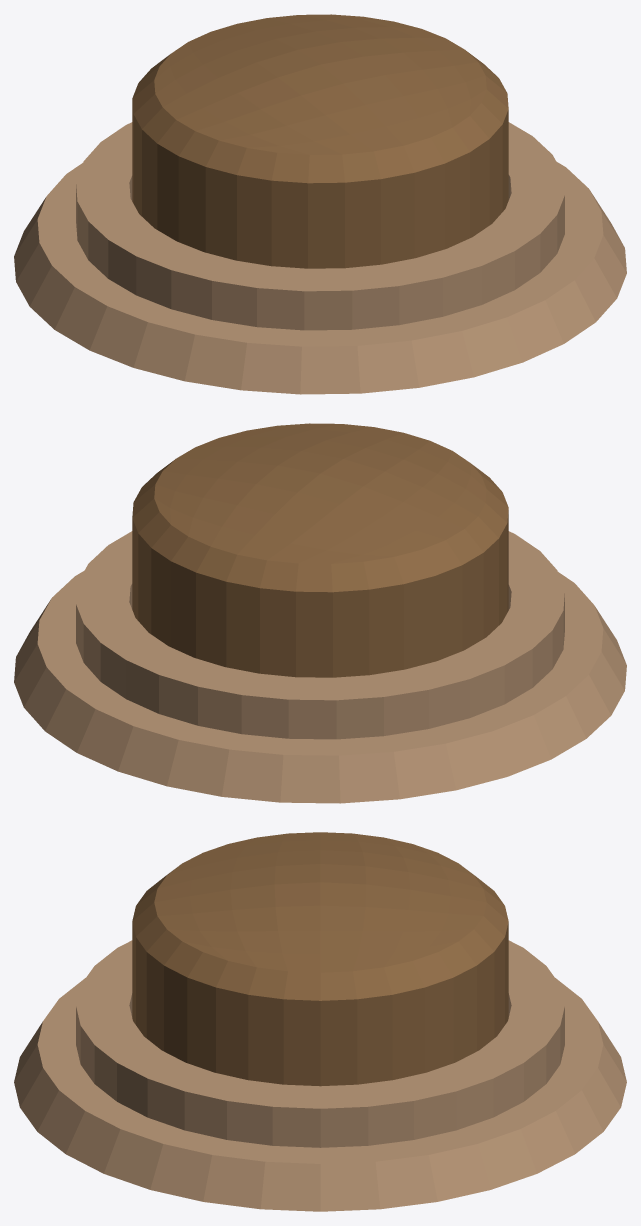
The model's file is Button.fbx.
3 views of the same model, one above another, from view 1: azimuth 30°, elevation 25°; view 2: azimuth 150°, elevation 25°; view 3: azimuth 270°, elevation 25° (orthographic).
Visible parts, largest first — view 1: ButtonBase, Button; view 2: ButtonBase, Button; view 3: ButtonBase, Button.
Boxes of the visible parts, x1=… form: ButtonBase: x1=14, y1=122, x2=626, y2=394; Button: x1=132, y1=14, x2=508, y2=268; ButtonBase: x1=14, y1=531, x2=626, y2=803; Button: x1=132, y1=423, x2=508, y2=677; ButtonBase: x1=14, y1=940, x2=626, y2=1211; Button: x1=132, y1=832, x2=508, y2=1086.
Bounding box in the file's own units: 200 × 200 × 71.98.
